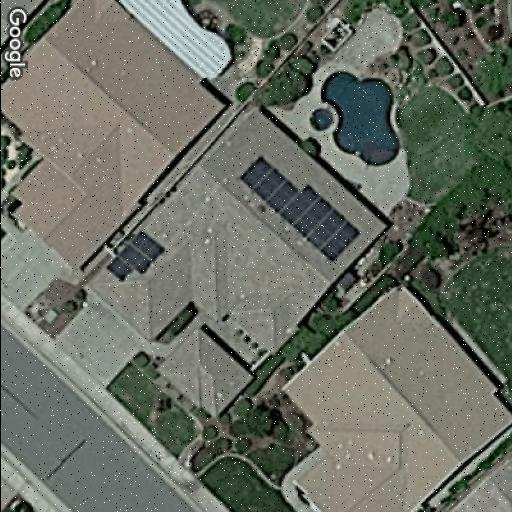solar-panel: (238, 154, 362, 264), (104, 228, 168, 286)
